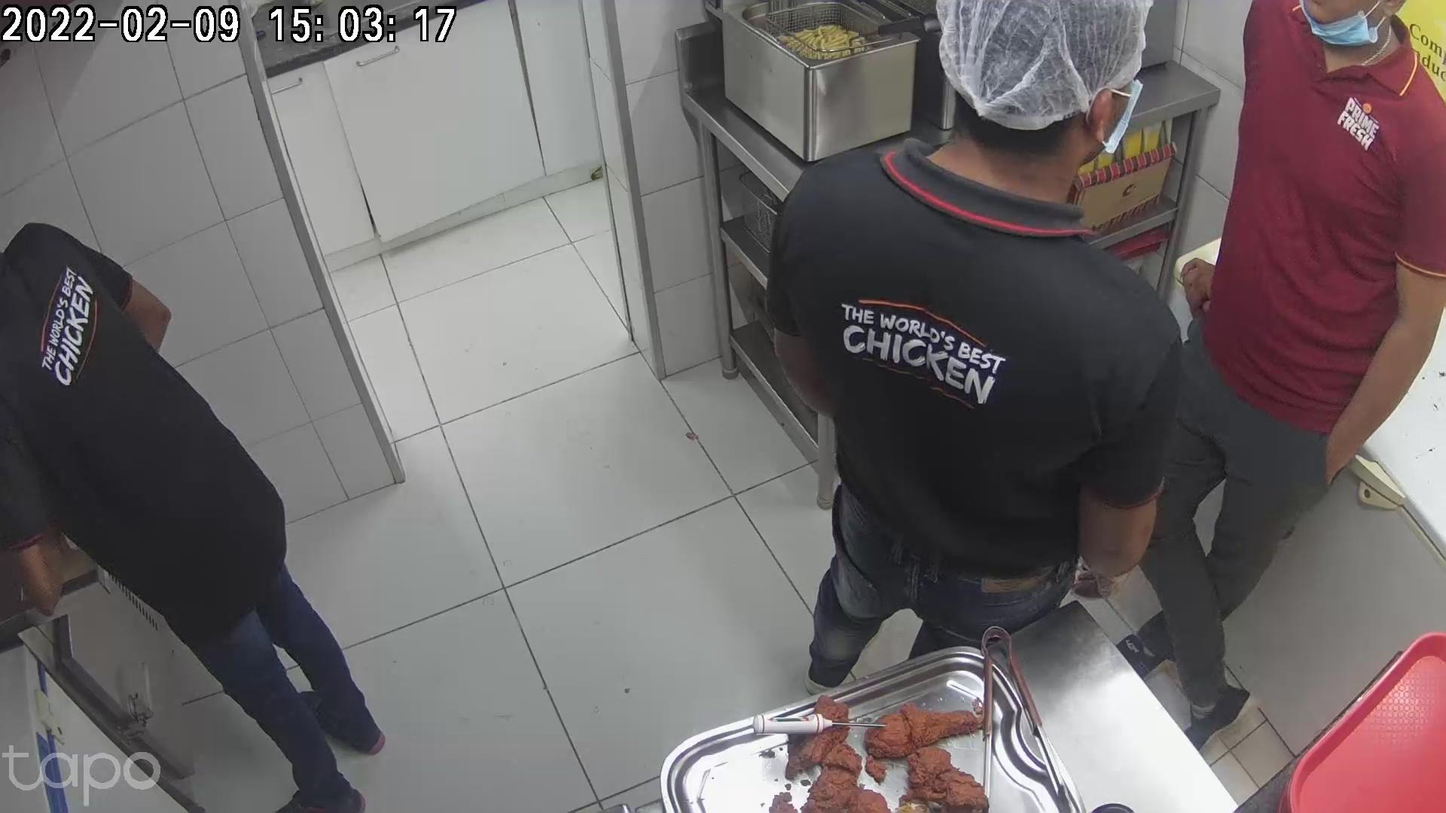gloves: (400, 279, 454, 372)
